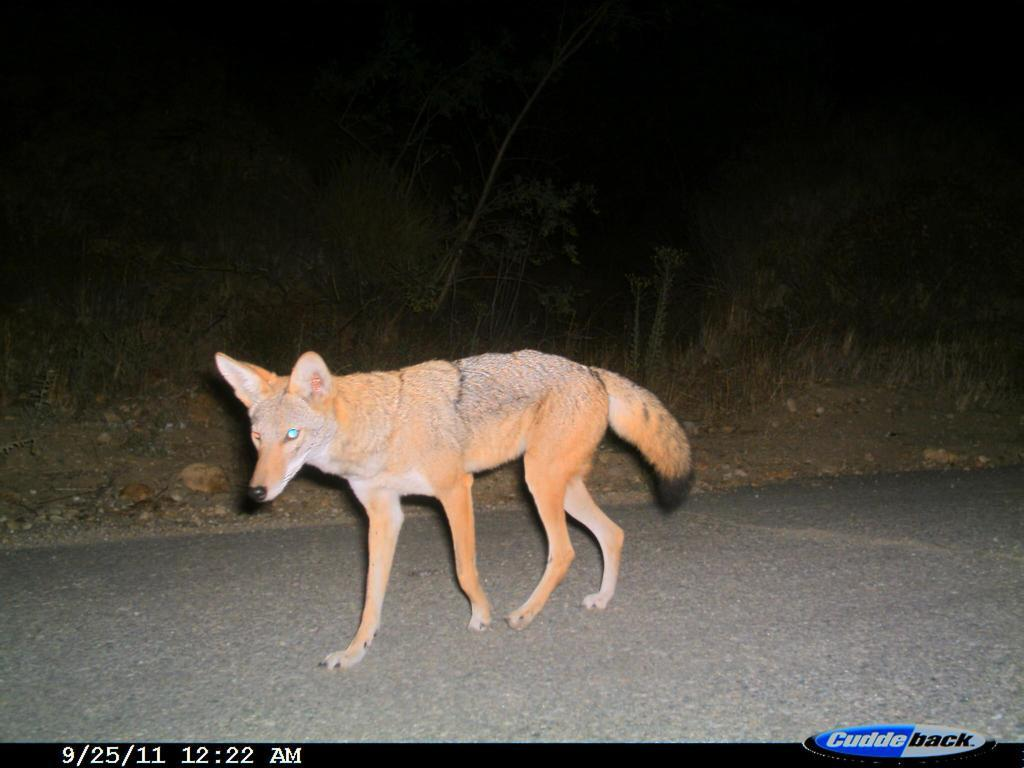coyote: (191, 327, 703, 690)
